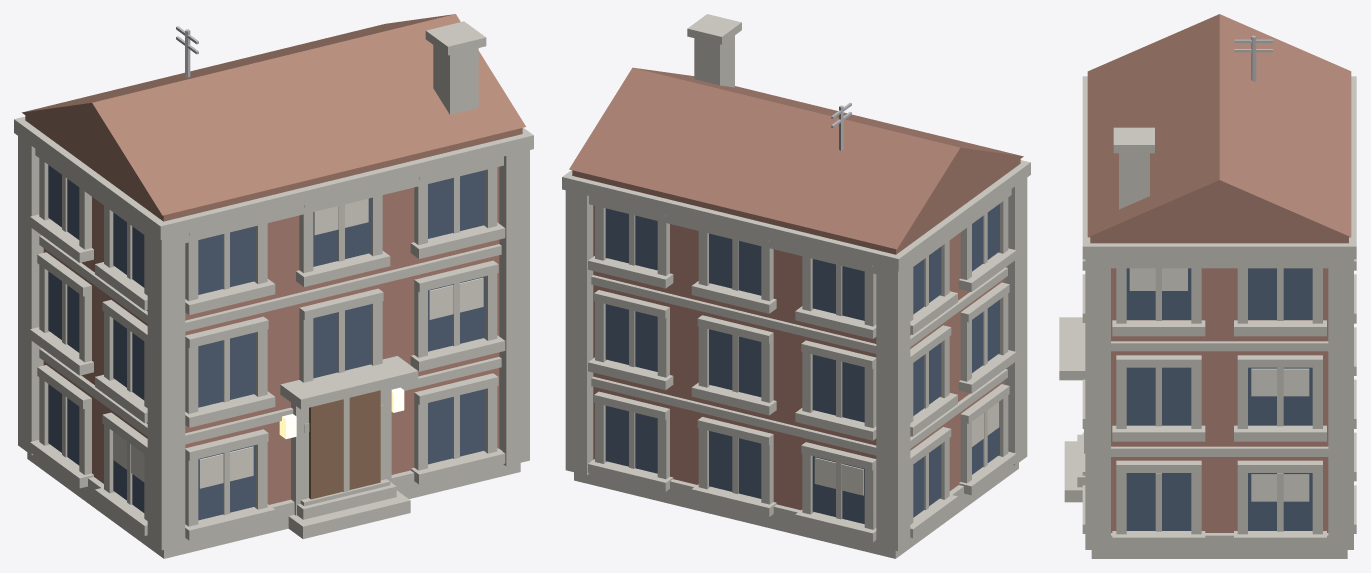
Rendered from bld_1_0.glb.
3 renders of one model, left to right at view 1: azimuth 30°, elevation 25°; view 2: azimuth 150°, elevation 25°; view 3: azimuth 270°, elevation 25°, orthographic. The views are drawn at different scales.
Visible parts, largest first — view 1: trim, rf, win, w, door, blind, porch; view 2: trim, rf, win, w, blind; view 3: trim, rf, win, w, blind, ac.
Part boxes in pixels (left/top/right/bottom): trim: left=14, top=21, right=533, bottom=558; rf: left=22, top=14, right=525, bottom=221; win: left=48, top=165, right=485, bottom=520; w: left=43, top=167, right=499, bottom=504; door: left=309, top=390, right=380, bottom=499; blind: left=113, top=198, right=483, bottom=488; porch: left=279, top=387, right=404, bottom=438; trim: left=562, top=14, right=1030, bottom=558; rf: left=569, top=67, right=1023, bottom=254; win: left=605, top=204, right=999, bottom=523; w: left=593, top=205, right=1004, bottom=510; blind: left=814, top=402, right=999, bottom=495; trim: left=1059, top=76, right=1356, bottom=558; rf: left=1087, top=14, right=1351, bottom=243; win: left=1126, top=268, right=1312, bottom=530; w: left=1111, top=268, right=1328, bottom=532; blind: left=1129, top=268, right=1309, bottom=501; ac: left=1234, top=35, right=1272, bottom=81.
Size of the model in its own units: 3.12 by 3.5 by 2.3.
